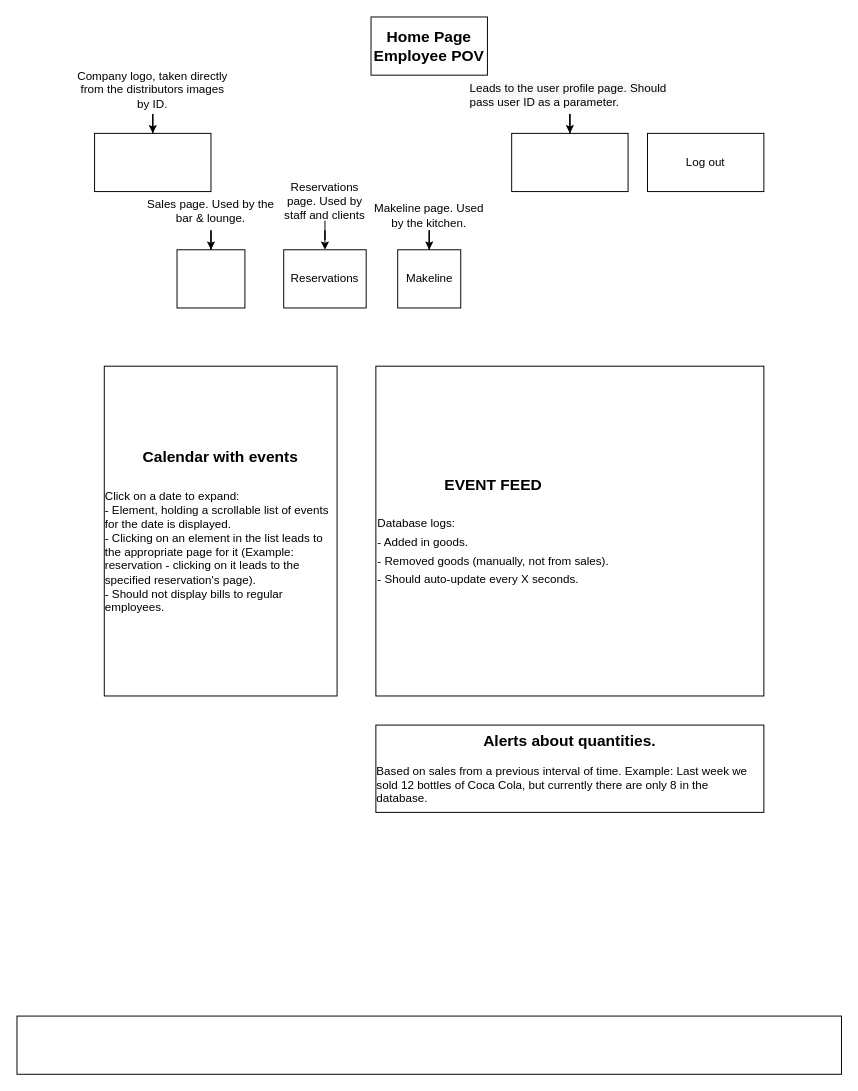
Some shapes in this 858 by 1091 pixel diagram are drawn without their labels. The centre of each missing label's shape, as x and y in pixels:
"Footer. Telephone number, email, Facebook page. Trademark. Language change." goes at [428,1044].
"Logo" goes at [152,162].
"Profile" goes at [569,162].
"Sell" goes at [210,278].
